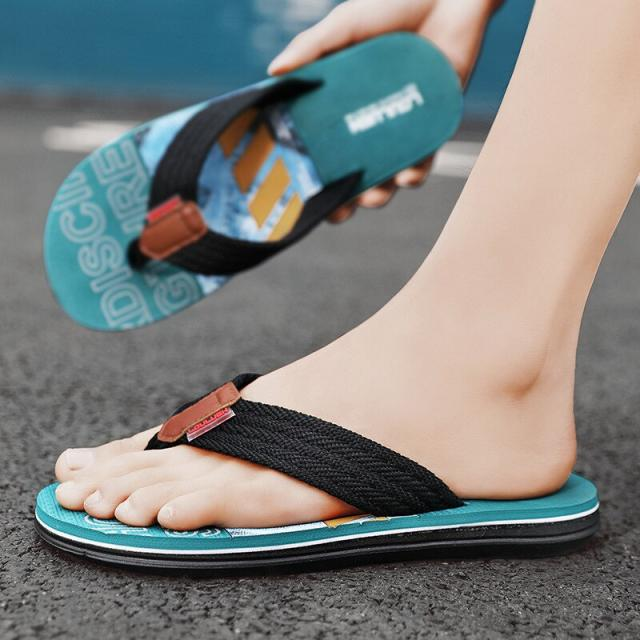Sandals: (37, 362, 605, 566)
